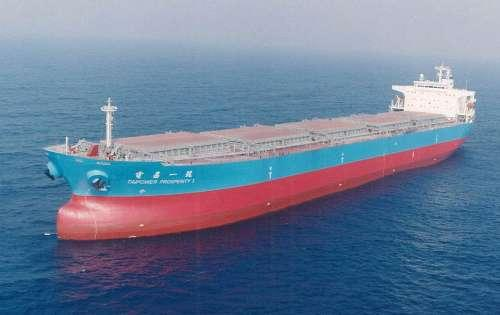Cargoship: (42, 58, 478, 243)
